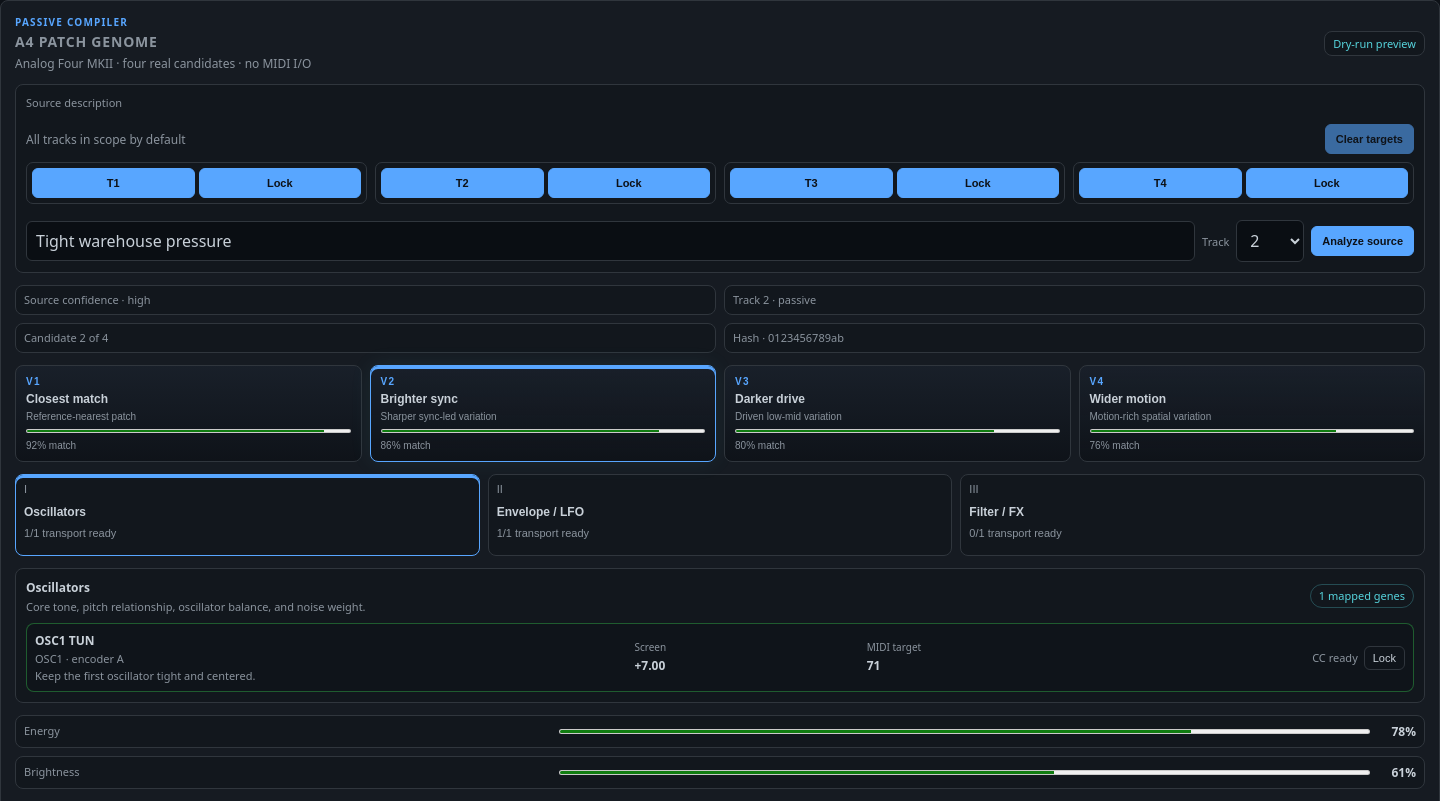
PatchGenomePanel › shows a passive compiler rejection from {"request_id":"message","ok":false,"message":"Description rejected"}
Click the button "Analyze source": [1363, 241] box [1311,226,1414,256]
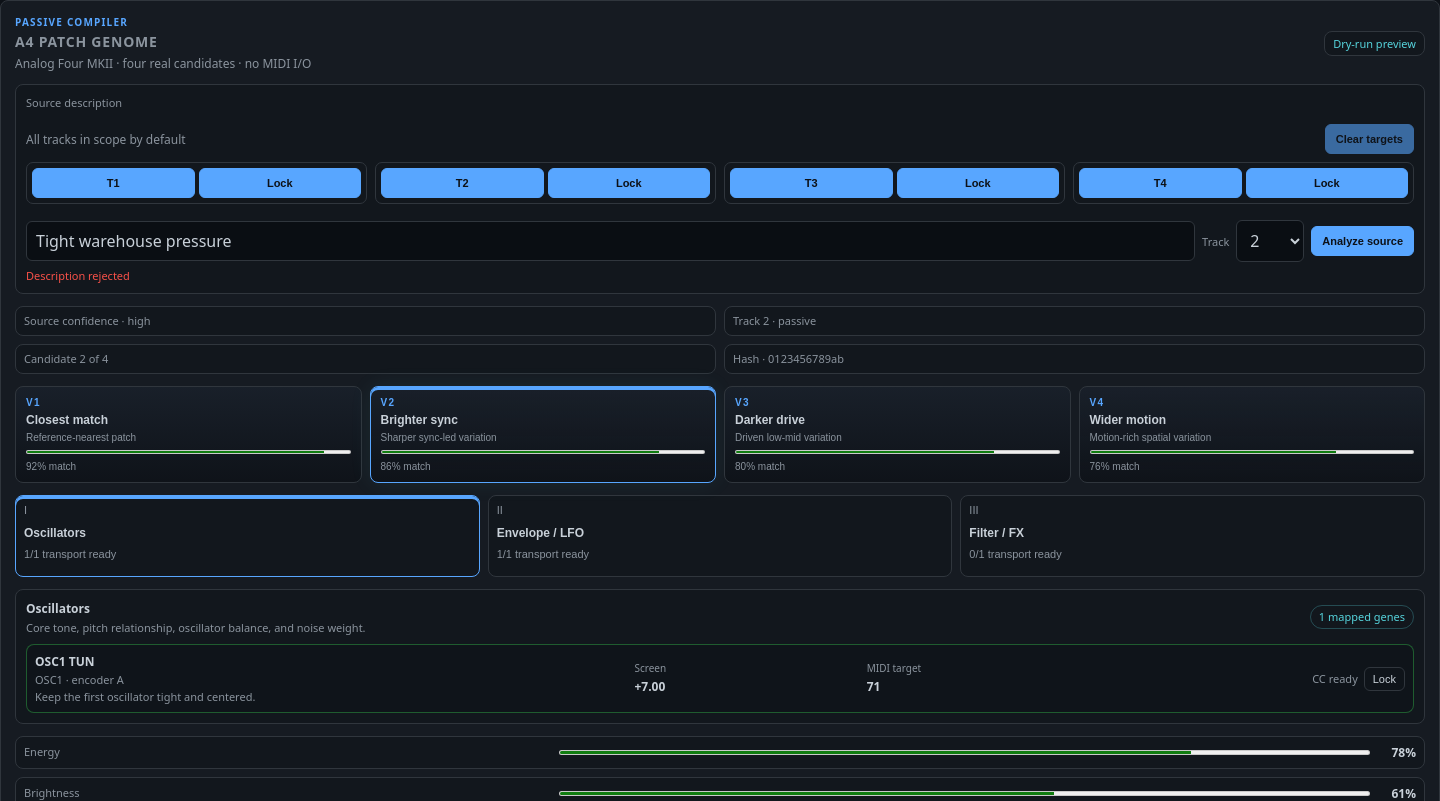
Expected: the message reads "Description rejected", [26,268,130,283]
